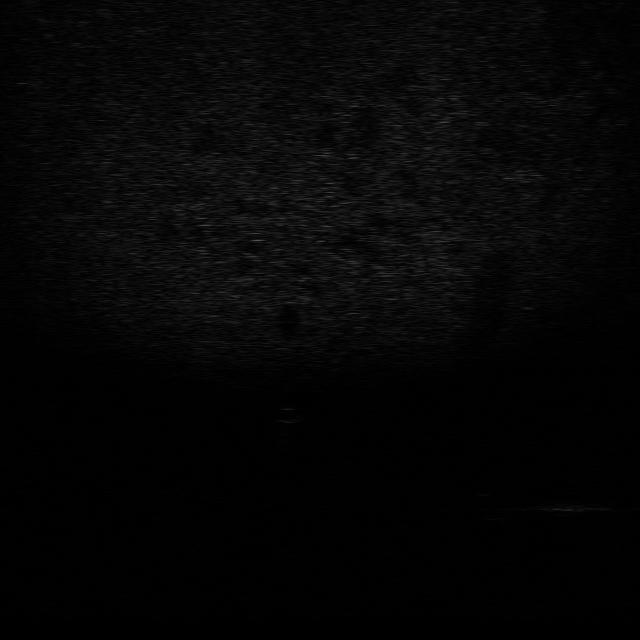ball: (269, 406, 309, 424)
metal bucket: (519, 499, 605, 517)
tyre: (470, 493, 518, 523)
